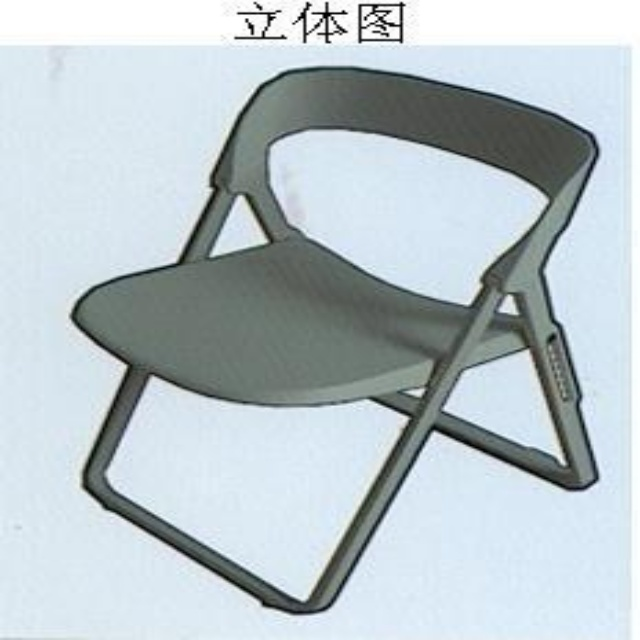obstacle: (72, 68, 596, 611)
